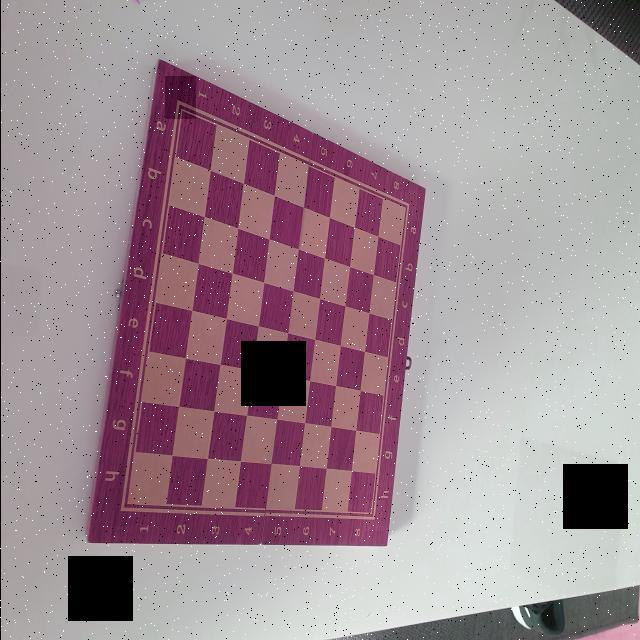chess-table-corners: (164, 76, 195, 119), (107, 488, 135, 526), (363, 500, 384, 531), (399, 191, 419, 221)
